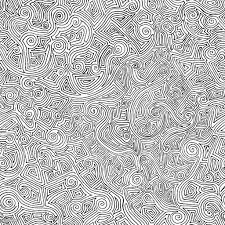maze: (1, 1, 223, 223)
